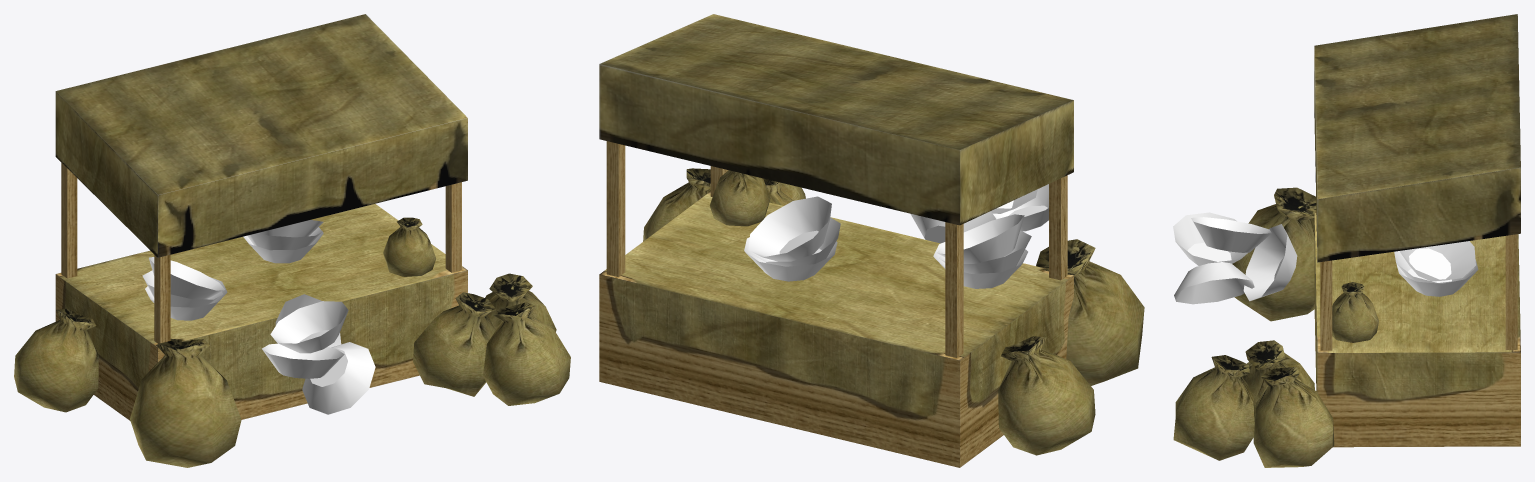
The model's file is store14.fbx.
The picture shows the model from 3 angles, left to right: view 1: azimuth 30°, elevation 25°; view 2: azimuth 150°, elevation 25°; view 3: azimuth 270°, elevation 25°; orthographic projection. The views are drawn at different scales.
Visible parts, largest first — view 1: stand, bag_50, bag_49, bag_47, bag_46, bowl_10, bowl_7, bag_48, bowl_8, bag_45, bowl_3, bowl_2 (+5 smaller); view 2: stand, bag_47, bag_50, bowl_4, bag_48, bowl_3, bag_45, bowl, bowl_8, bowl_6, bowl_9, bowl_5 (+1 smaller); view 3: stand, bag_49, bag_45, bag_50, bowl_9, bowl_10, bowl_4, bag_48, bowl_7, bag_46, bowl_8, bowl (+1 smaller).
Boxes of the visible parts, x1,y1,x2,y2 form: stand: (55, 14, 467, 420); bag_50: (130, 338, 241, 467); bag_49: (483, 302, 570, 405); bag_47: (14, 308, 98, 412); bag_46: (413, 292, 496, 396); bowl_10: (302, 342, 375, 414); bowl_7: (270, 301, 348, 353); bag_48: (383, 217, 435, 276); bowl_8: (262, 343, 344, 378); bag_45: (485, 273, 556, 331); bowl_3: (149, 257, 224, 299); bowl_2: (247, 228, 322, 250); stand: (599, 14, 1073, 467); bag_47: (998, 336, 1095, 455); bag_50: (1036, 239, 1144, 385); bowl_4: (748, 196, 831, 261); bag_48: (710, 170, 770, 226); bowl_3: (937, 214, 1024, 263); bag_45: (643, 168, 710, 241); bowl: (744, 237, 837, 281); bowl_8: (993, 184, 1048, 231); bowl_6: (939, 230, 1031, 273); bowl_9: (910, 211, 995, 243); bowl_5: (933, 242, 1027, 288); stand: (1314, 14, 1520, 447); bag_49: (1173, 355, 1254, 460); bag_45: (1253, 367, 1334, 467); bag_50: (1232, 187, 1316, 321); bowl_9: (1243, 224, 1297, 301); bowl_10: (1174, 262, 1254, 304); bowl_4: (1400, 241, 1475, 281); bag_48: (1332, 282, 1378, 342); bowl_7: (1191, 217, 1271, 252); bag_46: (1243, 340, 1314, 421); bowl_8: (1173, 212, 1247, 265); bowl: (1396, 260, 1478, 296).
Size of the model in its own units: 96.61 by 58.25 by 63.18.
